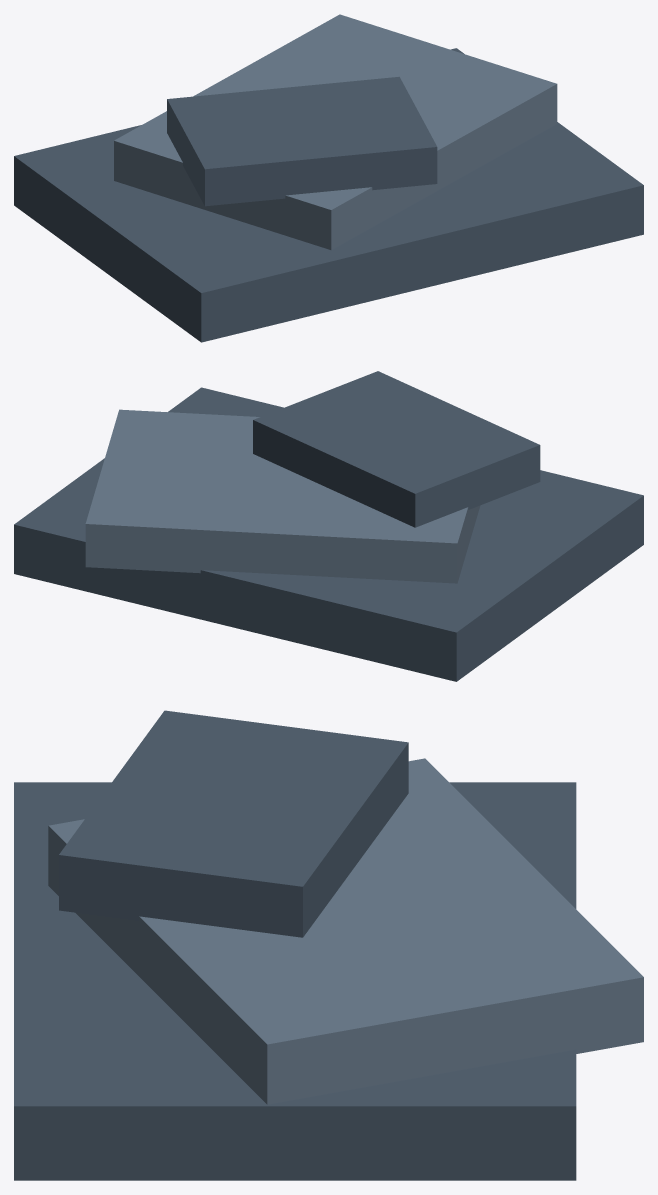
Rendered from slate_flat.glb.
3 views of the same model, one above another, from view 1: azimuth 30°, elevation 25°; view 2: azimuth 150°, elevation 25°; view 3: azimuth 270°, elevation 25° (orthographic). The views are drawn at different scales.
Parts seen in each view (by area): view 1: slate_flat; view 2: slate_flat; view 3: slate_flat.
Boxes of the visible parts, x1,y1,x2,y2 form: slate_flat: (14,14,643,342); slate_flat: (14,371,643,681); slate_flat: (14,710,643,1180).
Size of the model in its own units: 0.75 by 0.2 by 0.6163.
